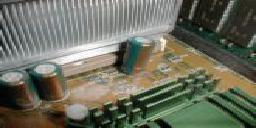Electrolytic Capacitor: (31, 62, 73, 102), (120, 31, 154, 78)
